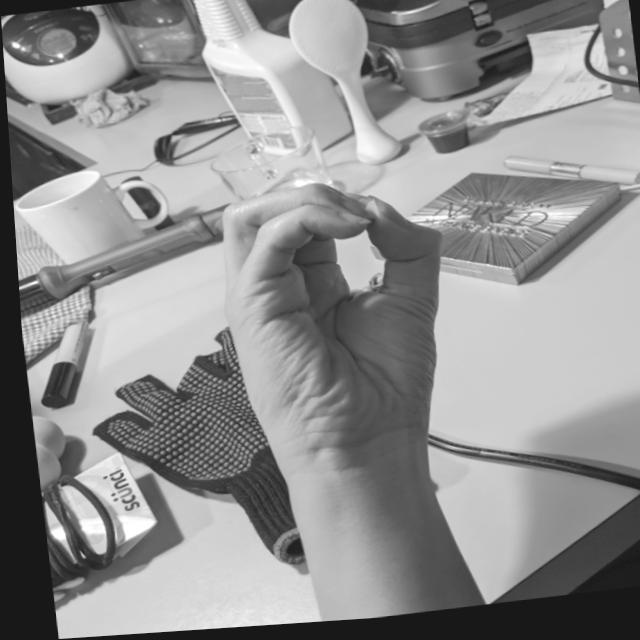O: (199, 169, 471, 487)
